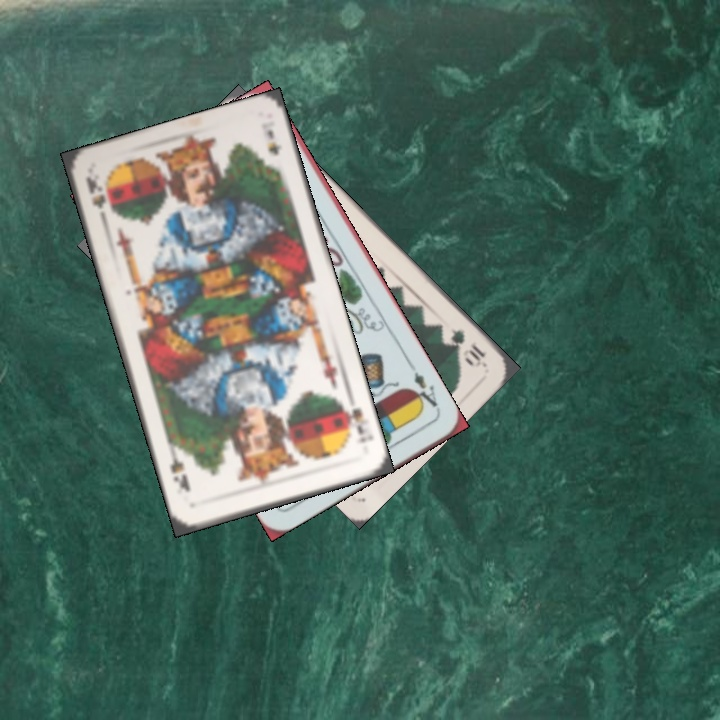EA: (405, 361, 443, 414)
G10: (446, 323, 488, 370)
SK: (337, 398, 376, 446), (82, 172, 109, 223)
